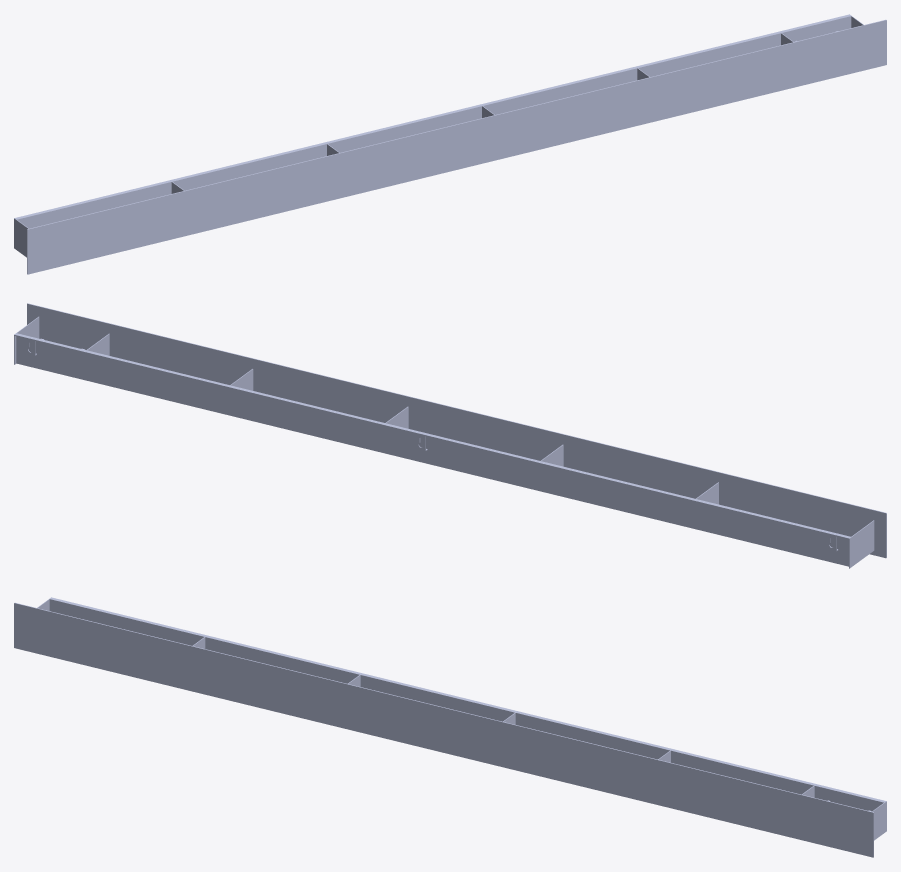
File: skyline-patron.0359ffac29.glb
3 renders of one model, top to bottom at view 1: azimuth 30°, elevation 25°; view 2: azimuth 150°, elevation 25°; view 3: azimuth 330°, elevation 25°, orthographic.
Parts seen in each view (by area): view 1: NAUO1; view 2: NAUO1; view 3: NAUO1.
Boxes of the visible parts, <box> form: NAUO1: <box>14,14,886,274</box>; NAUO1: <box>14,303,886,568</box>; NAUO1: <box>14,597,886,857</box>.
Size of the model in its own units: 1.8 by 0.0901 by 0.0921.
